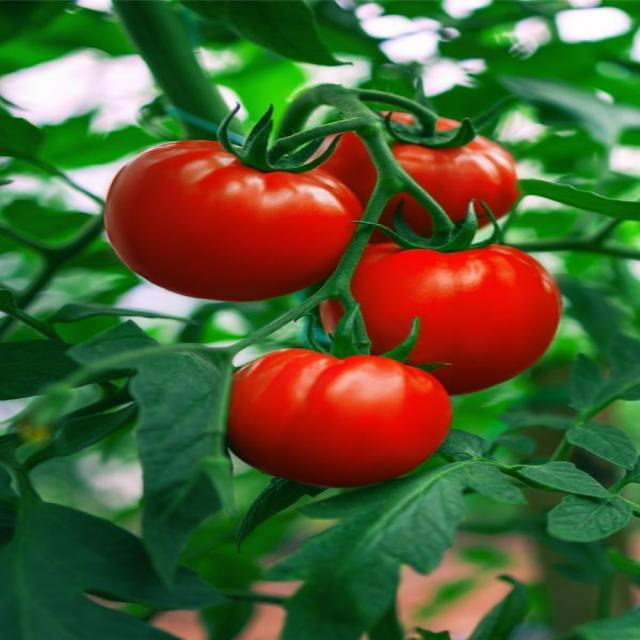tomatoes: (100, 134, 361, 300), (234, 326, 451, 487), (371, 228, 555, 391), (376, 112, 516, 231)
